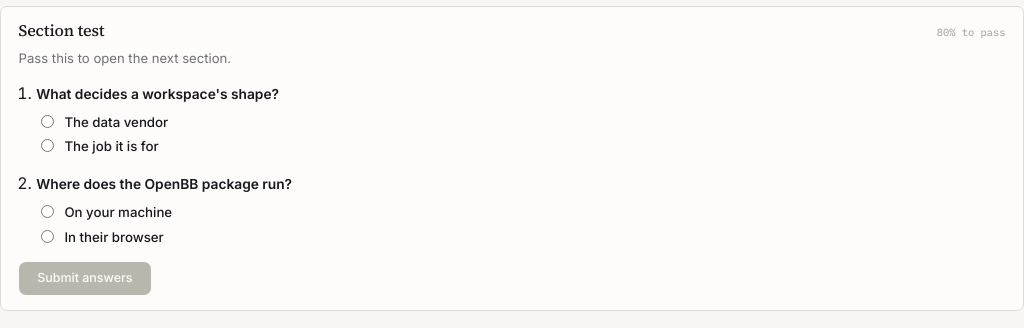
Test: SectionTestCard (GRS-0226) › will not submit until every question is answered
expect the button "Submit answers" is disabled: met, box left=19, top=262, right=151, bottom=295
What coordinates should you click on to do the following:
click the radio button labelled "The data vendor"
I would click on:
 (48, 121)
Its box is left=41, top=115, right=54, bottom=128.
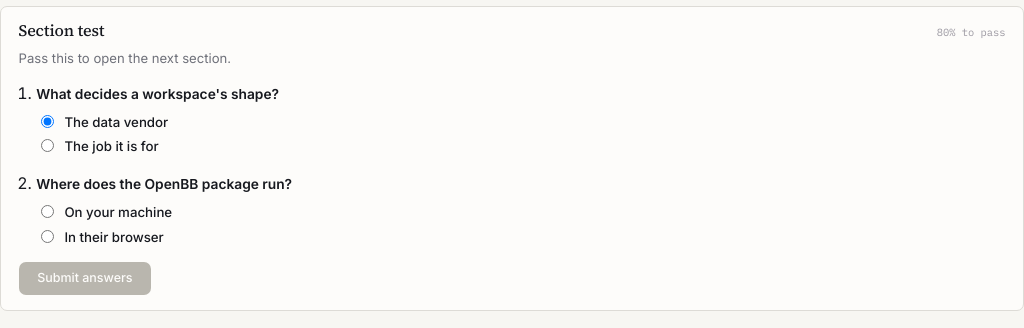
What coordinates should you click on to do the following:
click the radio button labelled "On your machine"
I would click on:
 (48, 212)
Its box is left=41, top=205, right=54, bottom=218.
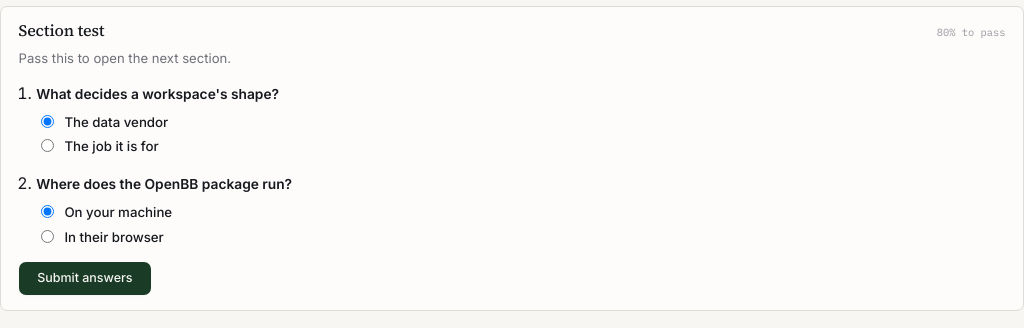
expect the button "Submit answers" is enabled: met, box left=19, top=262, right=151, bottom=295
